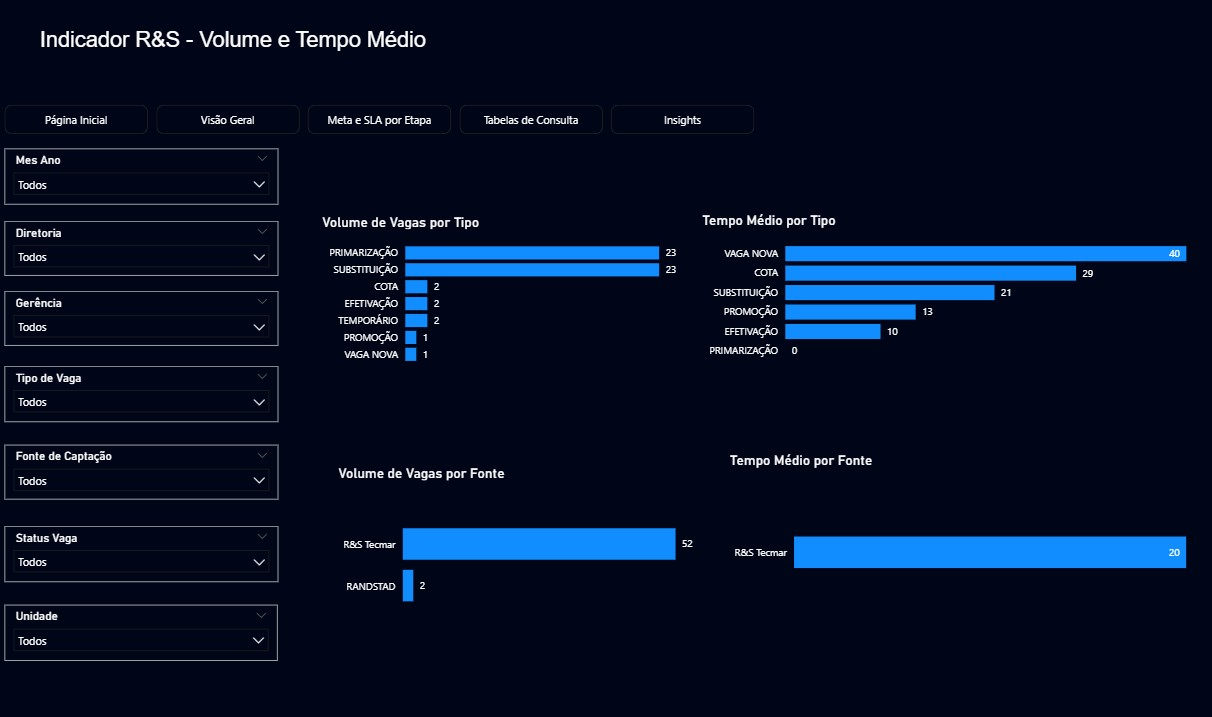

The dashboard page shown, as its layout file describes it:
{"tool":"powerbi","page":{"name":"Volume e Tempo Médio","canvas":[1500,900],"ordinal":3},"visuals":[{"type":"clusteredBarChart","title":"Volume de Vagas por Tipo","fields":{"Category":["dTipo.TIPO"],"Y":["Medidas.Total Vagas"]},"box":[394.2,266.9,444.8,194.8],"z":0},{"type":"clusteredBarChart","title":"Tempo Médio por Tipo","fields":{"Category":["dTipo.TIPO"],"Y":["Medidas.Tempo Médio Fechamento"]},"box":[860.4,265.3,624.2,194.8],"z":1000},{"type":"clusteredBarChart","title":"Volume de Vagas por Fonte","fields":{"Category":["dFonte.FONTE"],"Y":["Medidas.Total Vagas"]},"box":[414.1,575.2,446.3,220.9],"z":2000},{"type":"clusteredBarChart","title":"Tempo Médio por Fonte","fields":{"Category":["dFonte.FONTE"],"Y":["Medidas.Tempo Médio Fechamento"]},"box":[894.2,559.8,590.5,220.9],"z":3000},{"type":"slicer","fields":{"Values":["dDiretoria.DIRETORIA "]},"box":[9.2,276.1,335.9,67.5],"z":4000},{"type":"slicer","fields":{"Values":["dGerencia.GERENCIA "]},"box":[9.2,362,335.9,67.5],"z":5000},{"type":"slicer","fields":{"Values":["dFonte.FONTE"]},"box":[9.2,550.6,335.9,67.5],"z":6000},{"type":"slicer","fields":{"Values":["dTipo.TIPO"]},"box":[9.2,454,335.9,69],"z":7000},{"type":"slicer","fields":{"Values":["dStatus.STATUS DA VAGA"]},"box":[9.2,650.3,335.9,69],"z":8000},{"type":"slicer","fields":{"Values":["dUnidade.UNIDADE"]},"box":[9.6,746.2,334.8,68.6],"z":9000},{"type":"slicer","fields":{"Values":["fVagas.Mes Ano"]},"box":[9.2,187.1,335.9,69],"z":10000},{"type":"image","box":[976.2,21,498.6,98.8],"z":11000},{"type":"textbox","box":[47,34.2,527.9,70.5],"z":12000},{"type":"pageNavigator","box":[9.2,133.4,924.9,36.8],"z":13000}]}

Visuals, with their boxes in screenshot pixels (x1, y1, x2, y2), scaled from the page's 1500x900 canvas onto the 1212x717 screenshot:
"Volume de Vagas por Tipo" clusteredBarChart: x1=319 y1=213 x2=678 y2=368
"Tempo Médio por Tipo" clusteredBarChart: x1=695 y1=211 x2=1200 y2=367
"Volume de Vagas por Fonte" clusteredBarChart: x1=335 y1=458 x2=695 y2=634
"Tempo Médio por Fonte" clusteredBarChart: x1=723 y1=446 x2=1200 y2=622
slicer - dDiretoria.DIRETORIA : x1=7 y1=220 x2=279 y2=274
slicer - dGerencia.GERENCIA : x1=7 y1=288 x2=279 y2=342
slicer - dFonte.FONTE: x1=7 y1=439 x2=279 y2=492
slicer - dTipo.TIPO: x1=7 y1=362 x2=279 y2=417
slicer - dStatus.STATUS DA VAGA: x1=7 y1=518 x2=279 y2=573
slicer - dUnidade.UNIDADE: x1=8 y1=594 x2=278 y2=649
slicer - fVagas.Mes Ano: x1=7 y1=149 x2=279 y2=204
image: x1=789 y1=17 x2=1192 y2=95
textbox: x1=38 y1=27 x2=465 y2=83
pageNavigator: x1=7 y1=106 x2=755 y2=136
